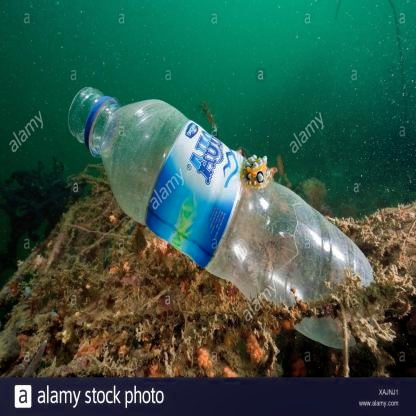pbottle: (67, 82, 377, 349)
